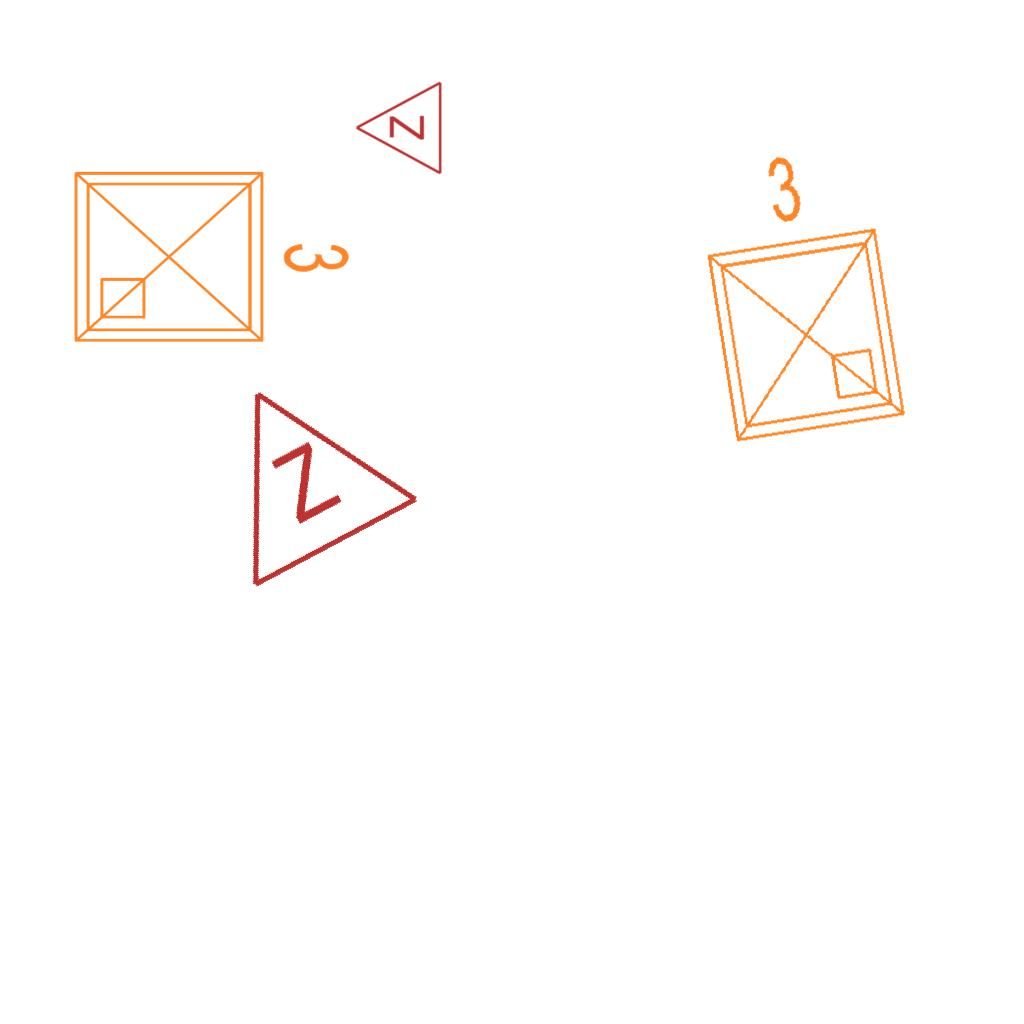Einbaudownlights_LED_Konferenzraeume: (669, 130, 923, 460), (60, 149, 360, 357)
Zimmersignalleuchte: (161, 335, 429, 605), (349, 80, 449, 178)
